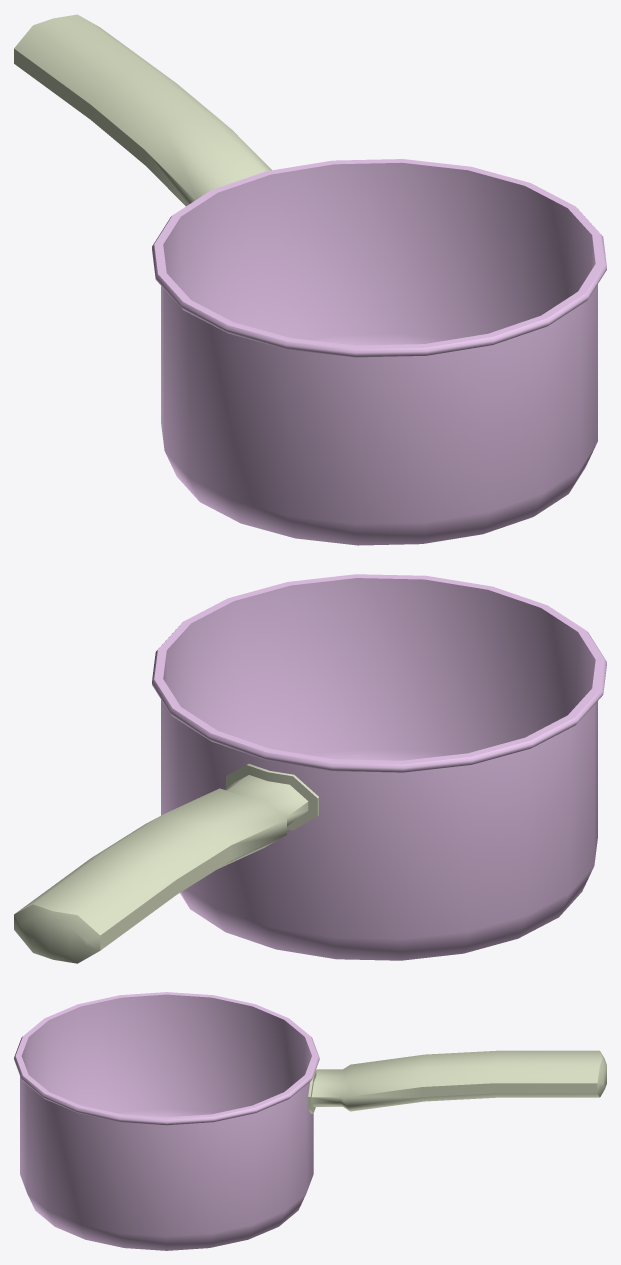
The picture shows the model from 3 angles, top to bottom: view 1: azimuth 30°, elevation 25°; view 2: azimuth 150°, elevation 25°; view 3: azimuth 270°, elevation 25°; orthographic projection. The views are drawn at different scales.
Parts seen in each view (by area): view 1: split_parent_1, Object_4; view 2: split_parent_1, Object_4; view 3: split_parent_1, Object_4.
Boxes of the visible parts, x1=… form: split_parent_1: x1=152, y1=159, x2=606, y2=545; Object_4: x1=14, y1=14, x2=271, y2=206; split_parent_1: x1=152, y1=574, x2=606, y2=960; Object_4: x1=14, y1=764, x2=318, y2=963; split_parent_1: x1=14, y1=992, x2=319, y2=1250; Object_4: x1=308, y1=1050, x2=606, y2=1113.
Bounding box in the file's own units: 0.5155 × 0.2678 × 1.
